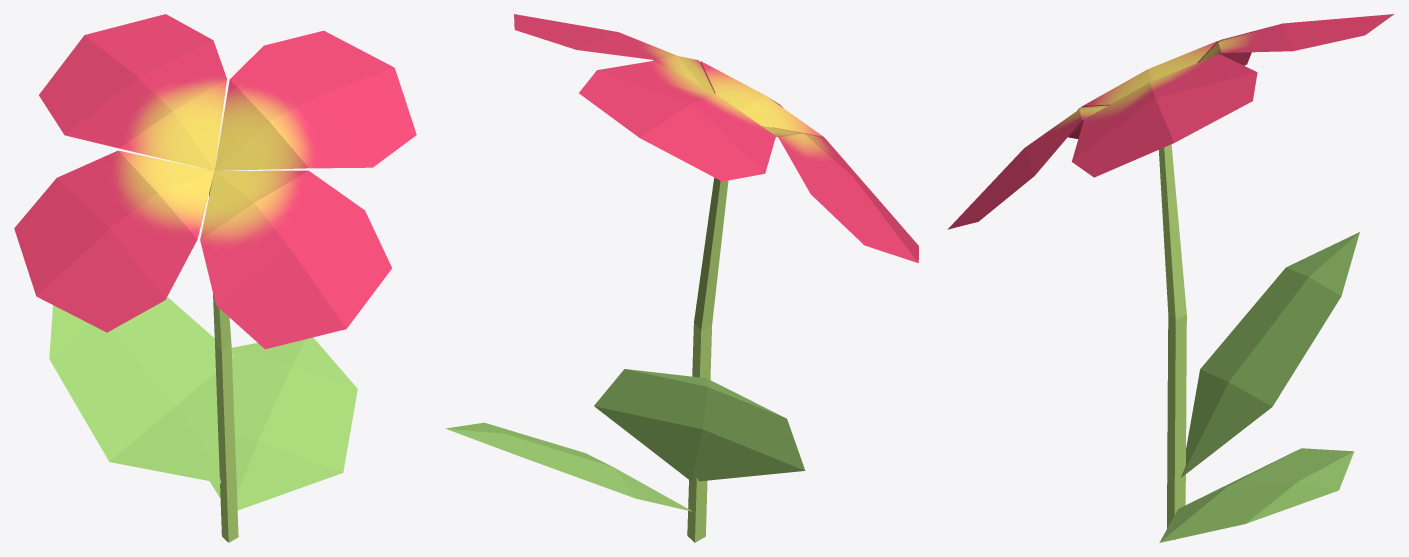
Rendered from Flower_c_OneS_10.fbx.
The picture shows the model from 3 angles, left to right: view 1: azimuth 30°, elevation 25°; view 2: azimuth 150°, elevation 25°; view 3: azimuth 270°, elevation 25°; orthographic projection. The views are drawn at different scales.
Parts seen in each view (by area): view 1: Flower_c_OneS_10; view 2: Flower_c_OneS_10; view 3: Flower_c_OneS_10.
Boxes of the visible parts, x1,y1,x2,y2 form: Flower_c_OneS_10: (14, 14, 416, 542); Flower_c_OneS_10: (445, 14, 918, 542); Flower_c_OneS_10: (947, 14, 1393, 542).
Bounding box in the file's own units: 0.3014 × 0.3648 × 0.2891.
